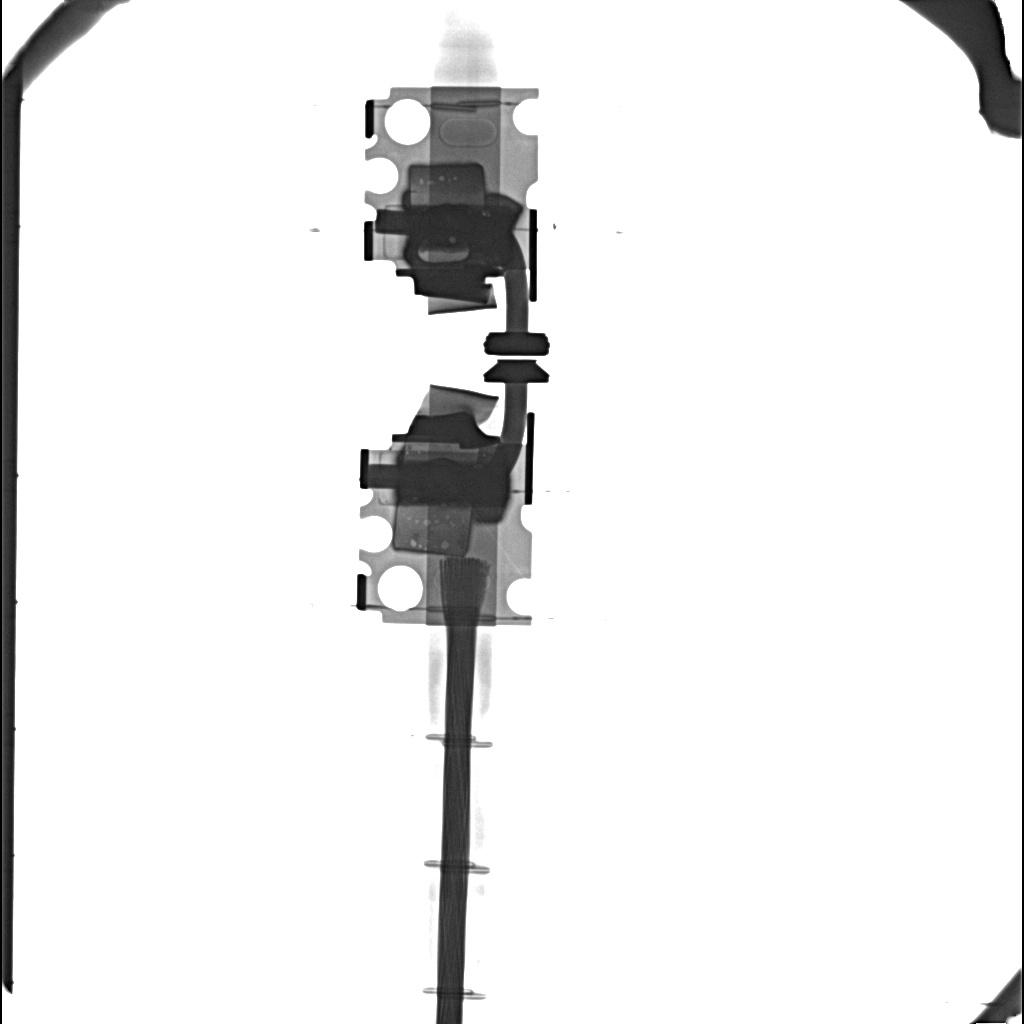defect: (398, 461, 508, 506), (406, 205, 515, 248), (392, 506, 474, 557), (408, 163, 487, 203), (418, 249, 469, 263)
